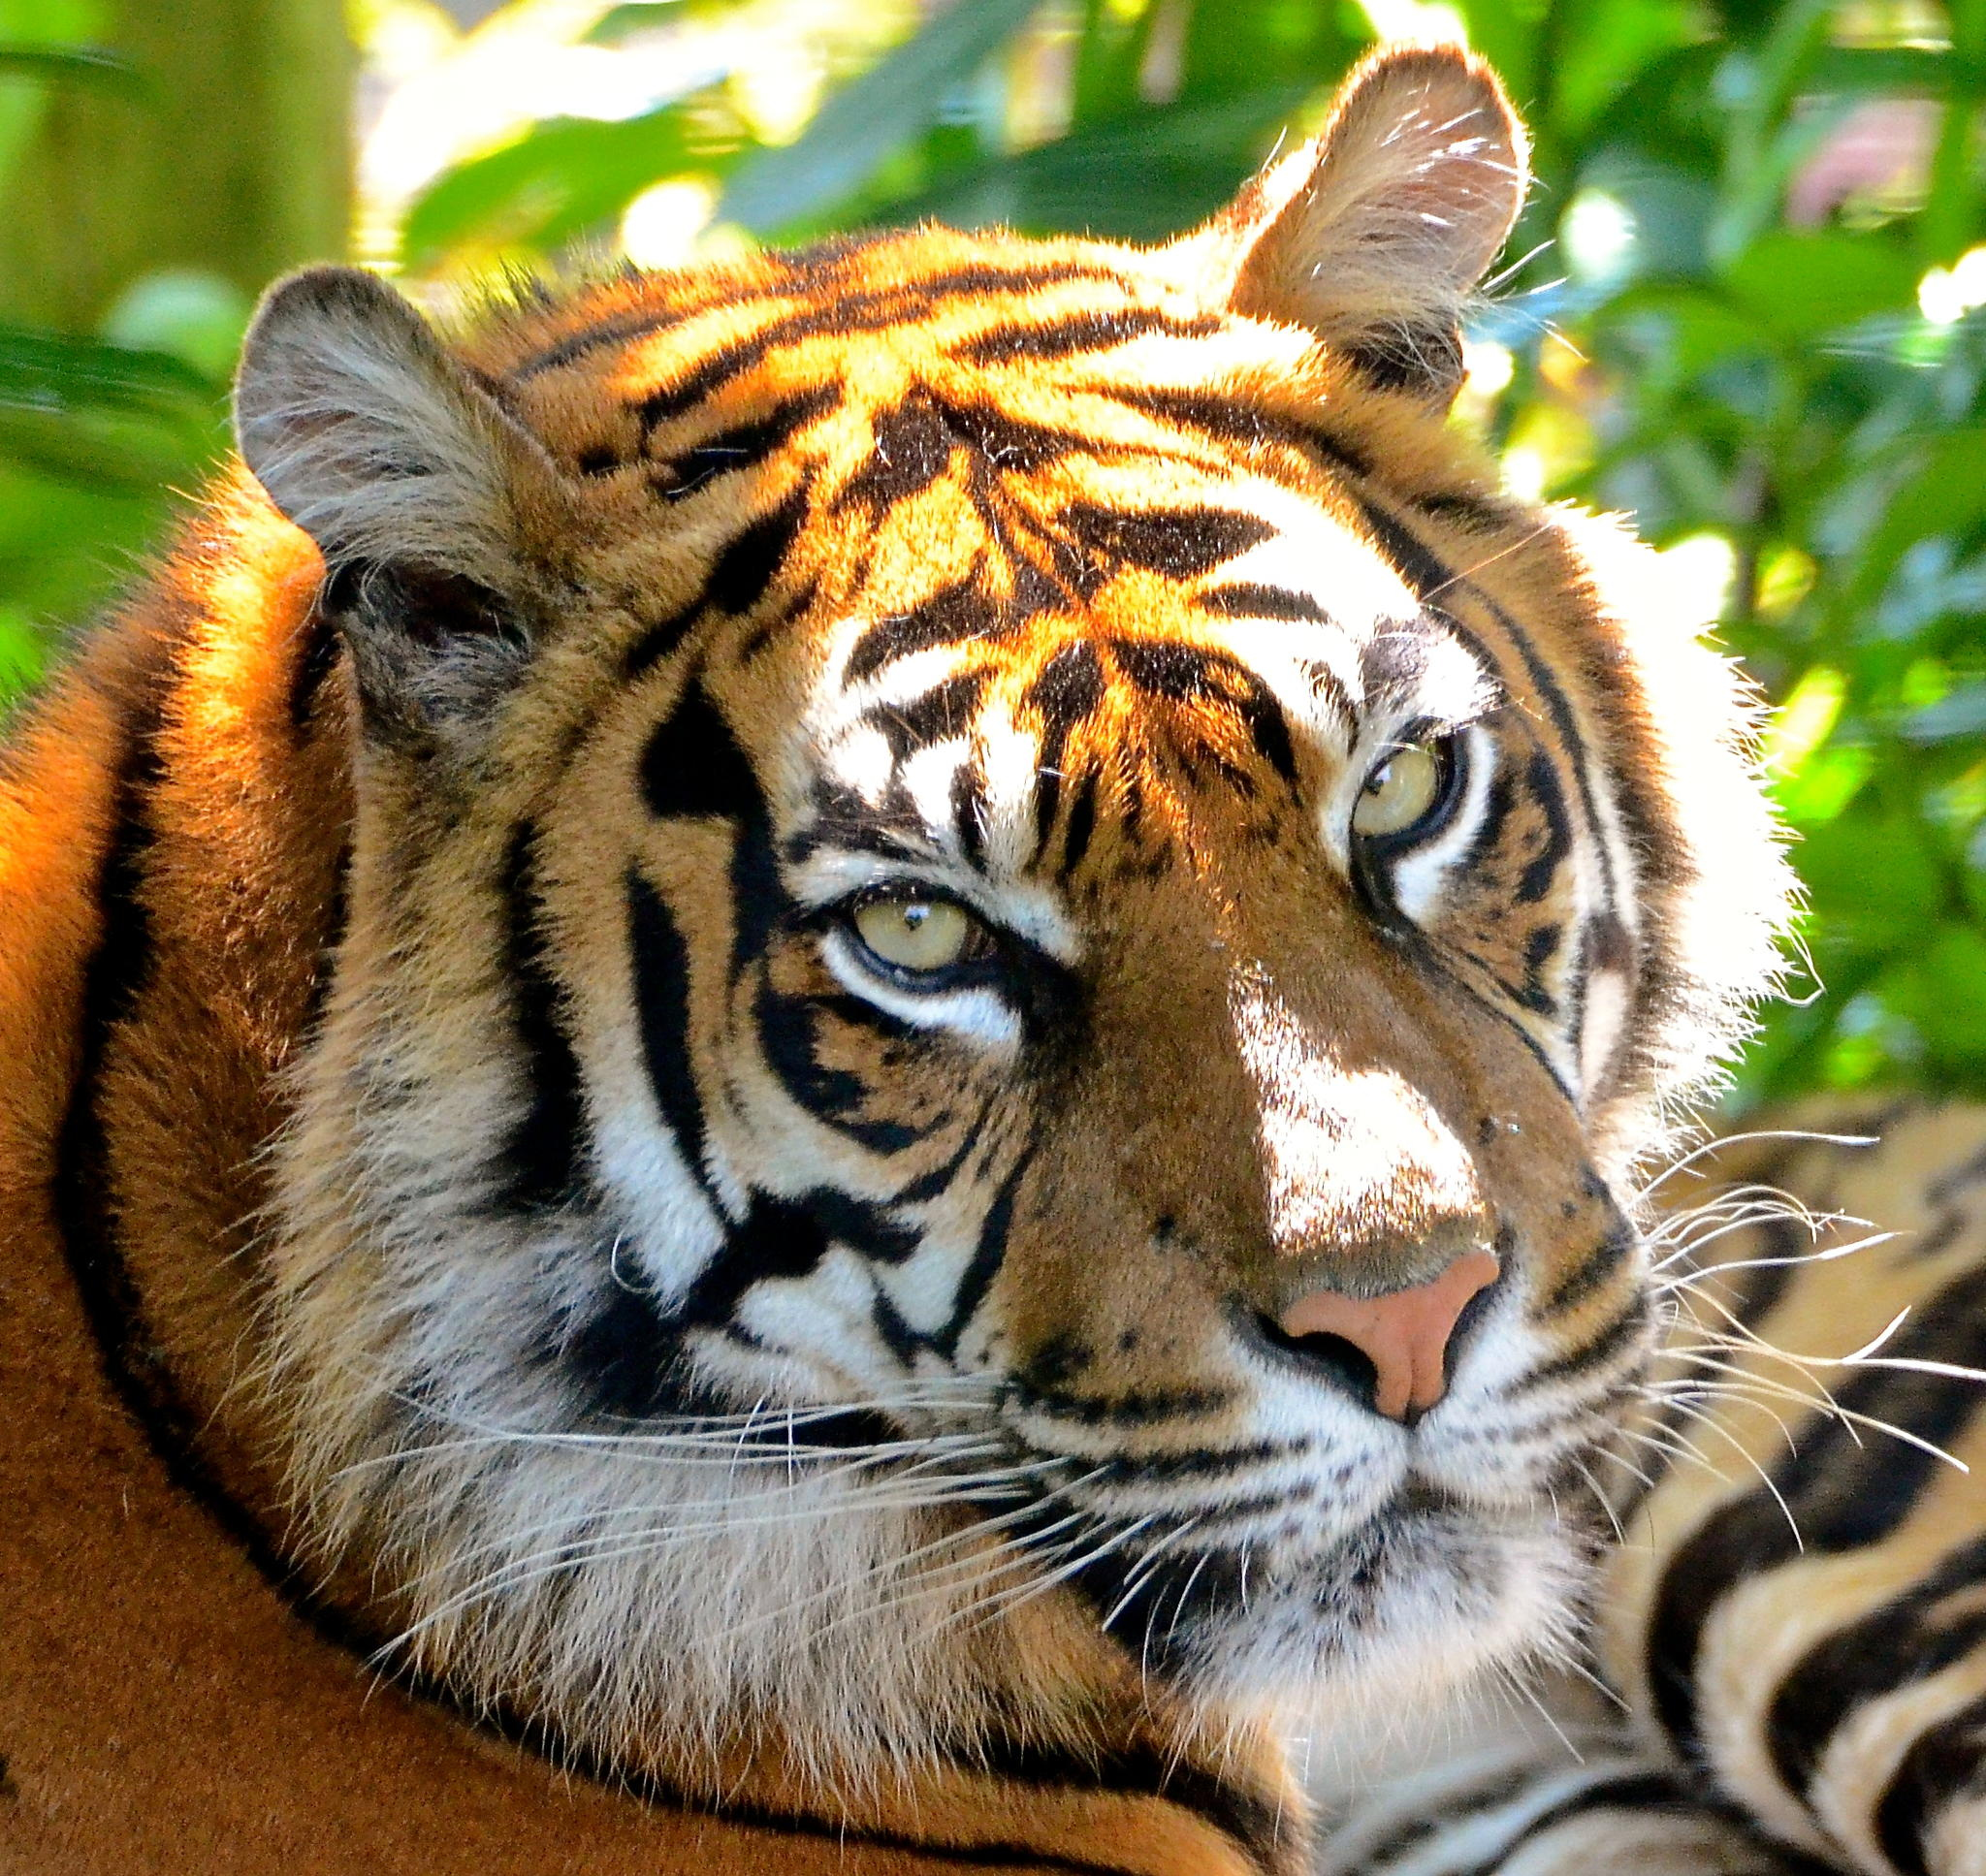tiger: (203, 120, 1702, 1744)
